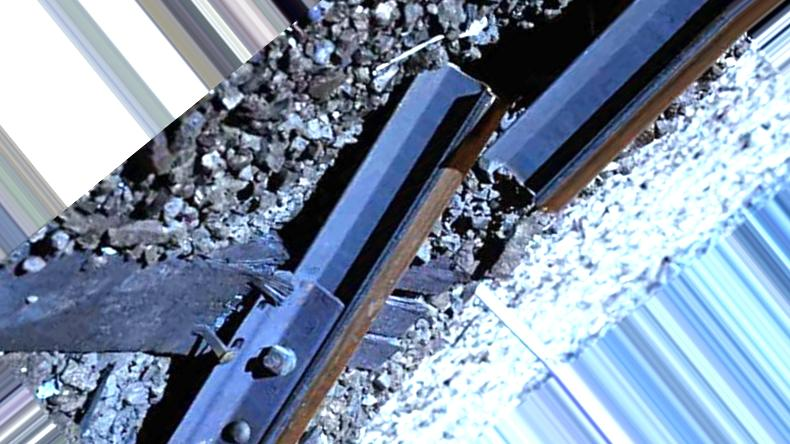tracks_fault: (380, 41, 569, 226)
